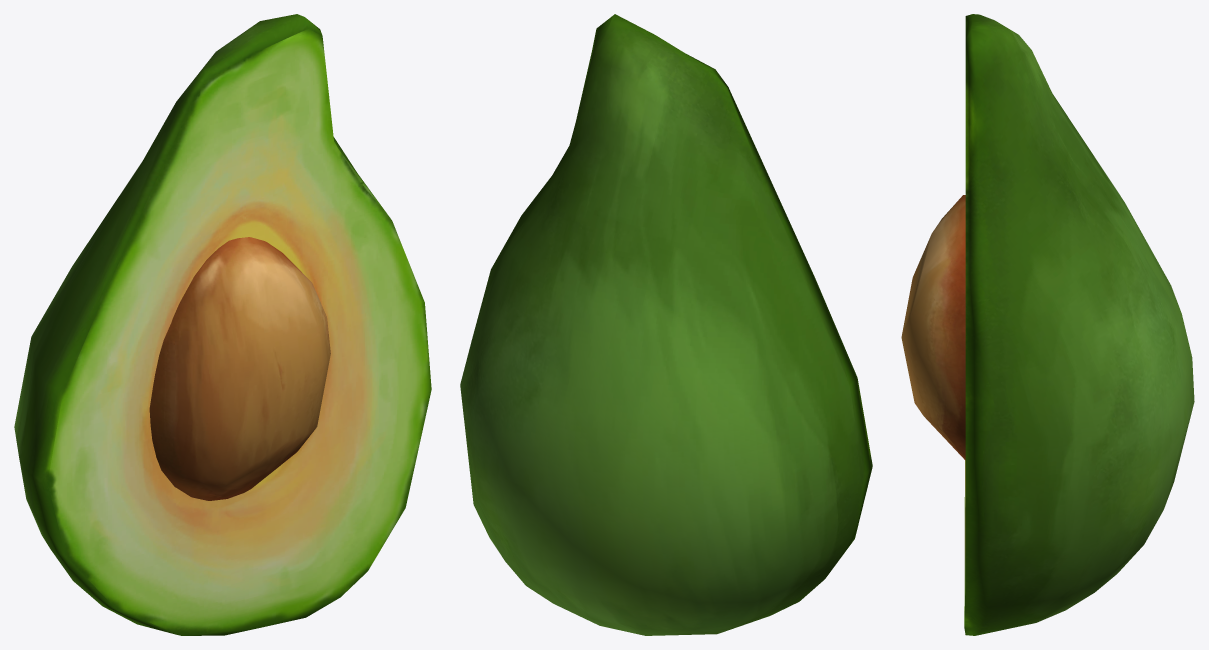
3 views of the same model, side by side, from view 1: azimuth 30°, elevation 25°; view 2: azimuth 150°, elevation 25°; view 3: azimuth 270°, elevation 25° (orthographic). The views are drawn at different scales.
Parts seen in each view (by area): view 1: Avocado; view 2: Avocado; view 3: Avocado.
Part boxes in pixels (x1,y1,x2,y2): Avocado: (14, 14, 431, 635); Avocado: (460, 14, 872, 635); Avocado: (901, 14, 1194, 635).
Bounding box in the file's own units: 0.0425 × 0.0629 × 0.0276.
Materials: 1 (1 with a texture image).
